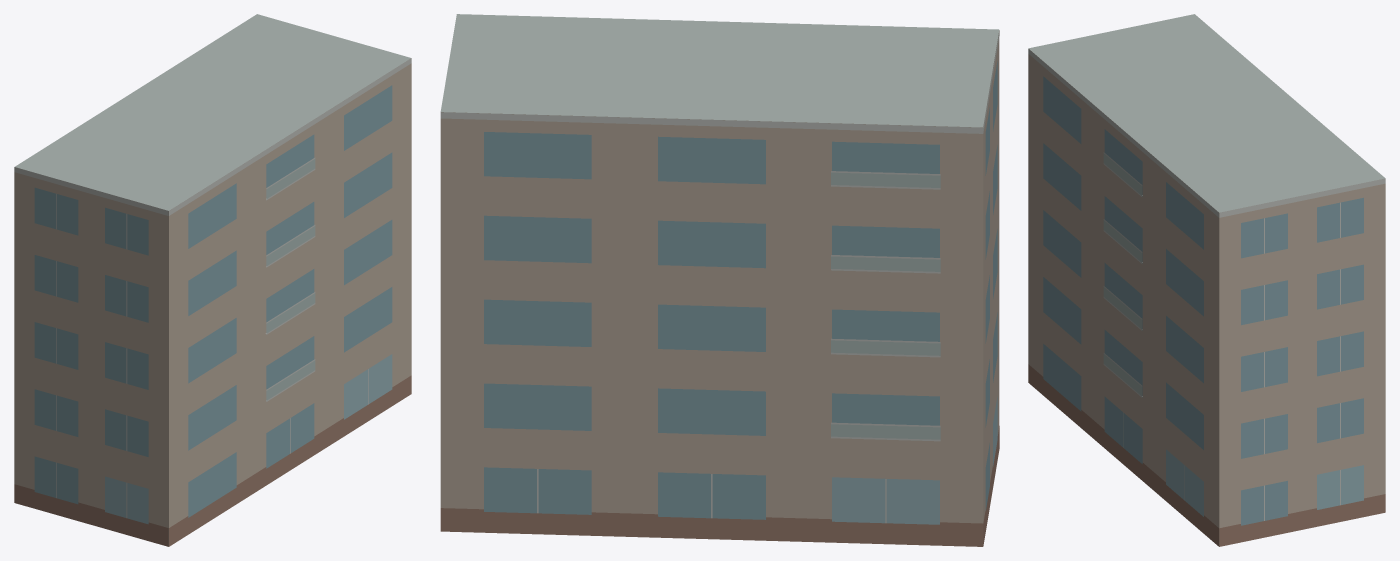
The model's file is survey-upis-32741019.glb.
3 renders of one model, left to right at view 1: azimuth 30°, elevation 25°; view 2: azimuth 150°, elevation 25°; view 3: azimuth 270°, elevation 25°, orthographic. The views are drawn at different scales.
Parts seen in each view (by area): view 1: survey-upis-32741019.tmp; view 2: survey-upis-32741019.tmp; view 3: survey-upis-32741019.tmp.
Part boxes in pixels (x1=…): survey-upis-32741019.tmp: x1=14, y1=14, x2=411, y2=546; survey-upis-32741019.tmp: x1=440, y1=14, x2=999, y2=546; survey-upis-32741019.tmp: x1=1028, y1=14, x2=1385, y2=546.
Bounding box in the file's own units: 20.16 × 15.8 × 15.33.
